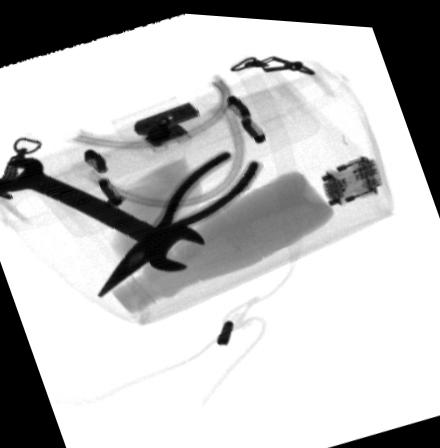Pliers: (98, 147, 262, 294)
Wrench: (0, 155, 205, 269)
